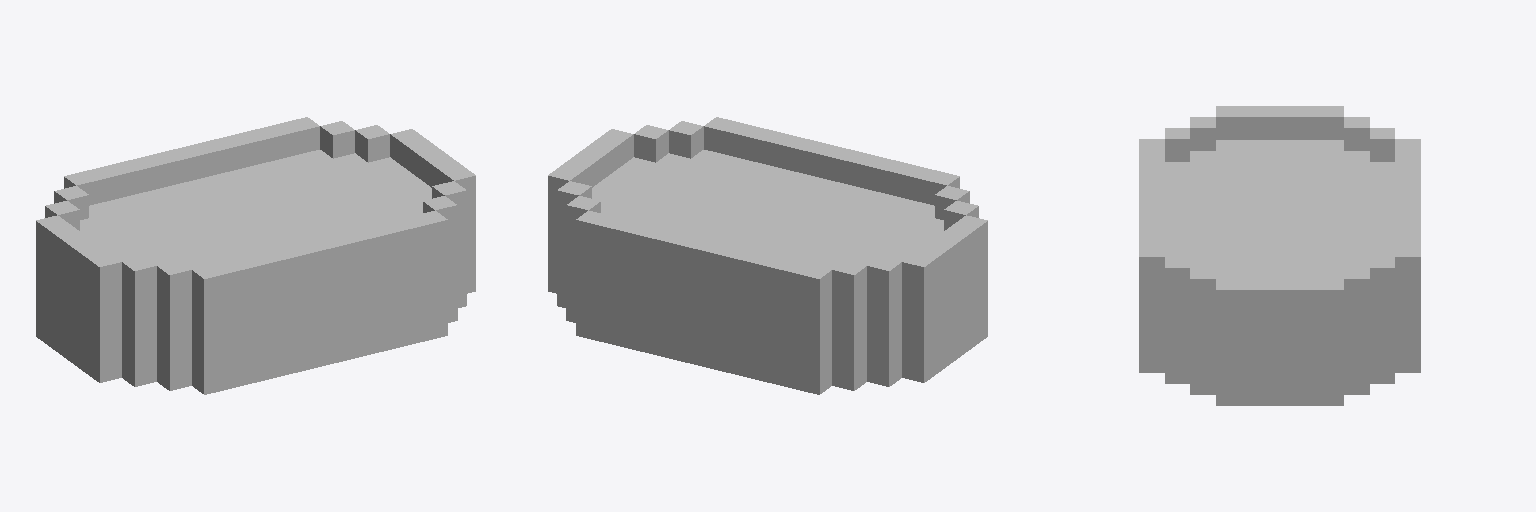
File: vasoredondo.obj
3 views of the same model, side by side, from view 1: azimuth 30°, elevation 25°; view 2: azimuth 150°, elevation 25°; view 3: azimuth 270°, elevation 25° (orthographic).
Visible parts, largest first — view 1: vasoredondo; view 2: vasoredondo; view 3: vasoredondo.
Boxes of the visible parts, box(x1,y1,x2,y2) form: vasoredondo: box(36, 117, 475, 394); vasoredondo: box(548, 117, 987, 394); vasoredondo: box(1139, 106, 1420, 405).
Bounding box in the file's own units: 17 × 5 × 11.